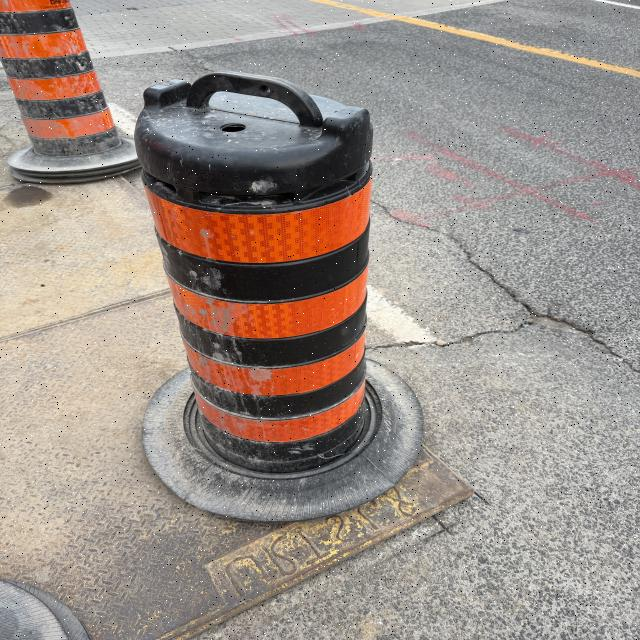Teraffic Barrel: (136, 72, 422, 520), (0, 0, 139, 183)
